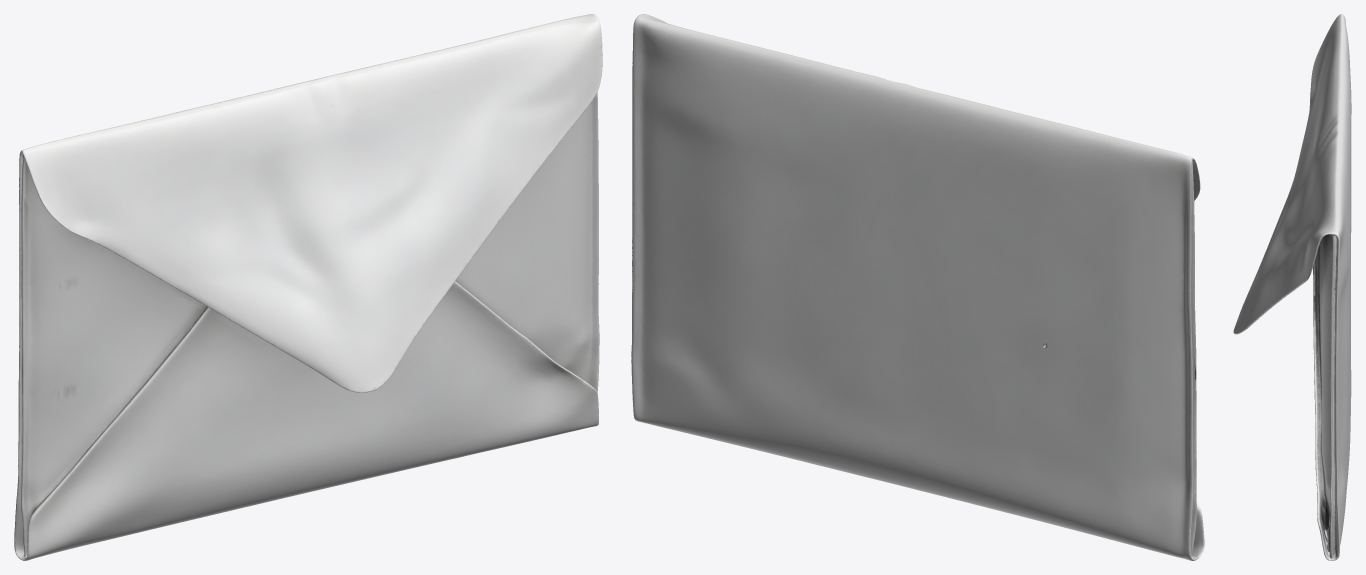
The model's file is envelope.glb.
3 renders of one model, left to right at view 1: azimuth 30°, elevation 25°; view 2: azimuth 150°, elevation 25°; view 3: azimuth 270°, elevation 25°, orthographic. The views are drawn at different scales.
Size of the model in its own units: 1.9 by 1.3 by 0.4229.
Materials: 1 (1 with a texture image).
